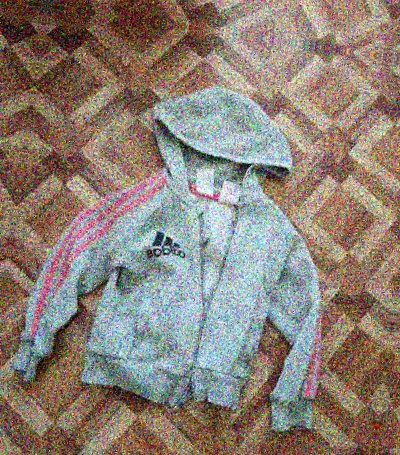Hoodie: (0, 45, 392, 451), (0, 0, 40, 398), (52, 0, 400, 19)
